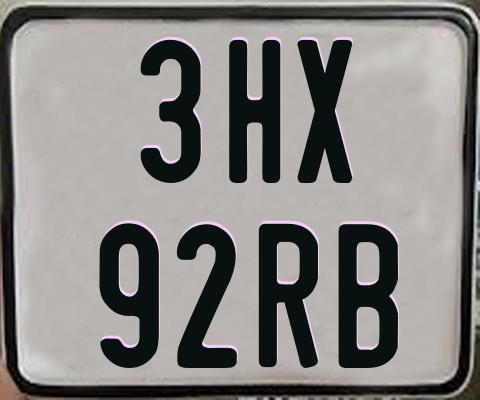2: (177, 222, 237, 367)
3: (137, 39, 200, 183)
9: (96, 223, 159, 370)
B: (338, 221, 400, 366)
H: (229, 37, 281, 181)
R: (258, 223, 320, 373)
X: (295, 37, 352, 182)
